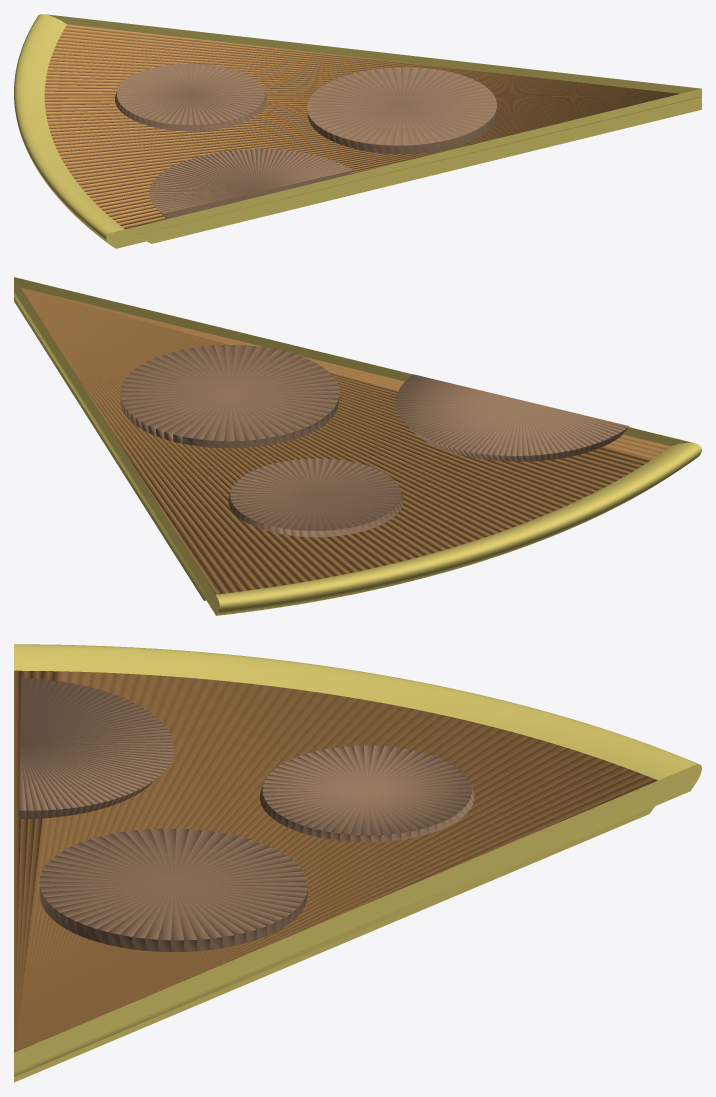
The model's file is Pizza slize.fbx.
3 views of the same model, one above another, from view 1: azimuth 30°, elevation 25°; view 2: azimuth 150°, elevation 25°; view 3: azimuth 270°, elevation 25° (orthographic). The views are drawn at different scales.
Parts seen in each view (by area): view 1: pizza_slize; view 2: pizza_slize; view 3: pizza_slize.
Boxes of the visible parts, x1,y1,x2,y2 form: pizza_slize: (14,14,701,248); pizza_slize: (14,277,701,615); pizza_slize: (14,644,701,1082).
Bounding box in the file's own units: 30.62 × 1.21 × 21.65.
